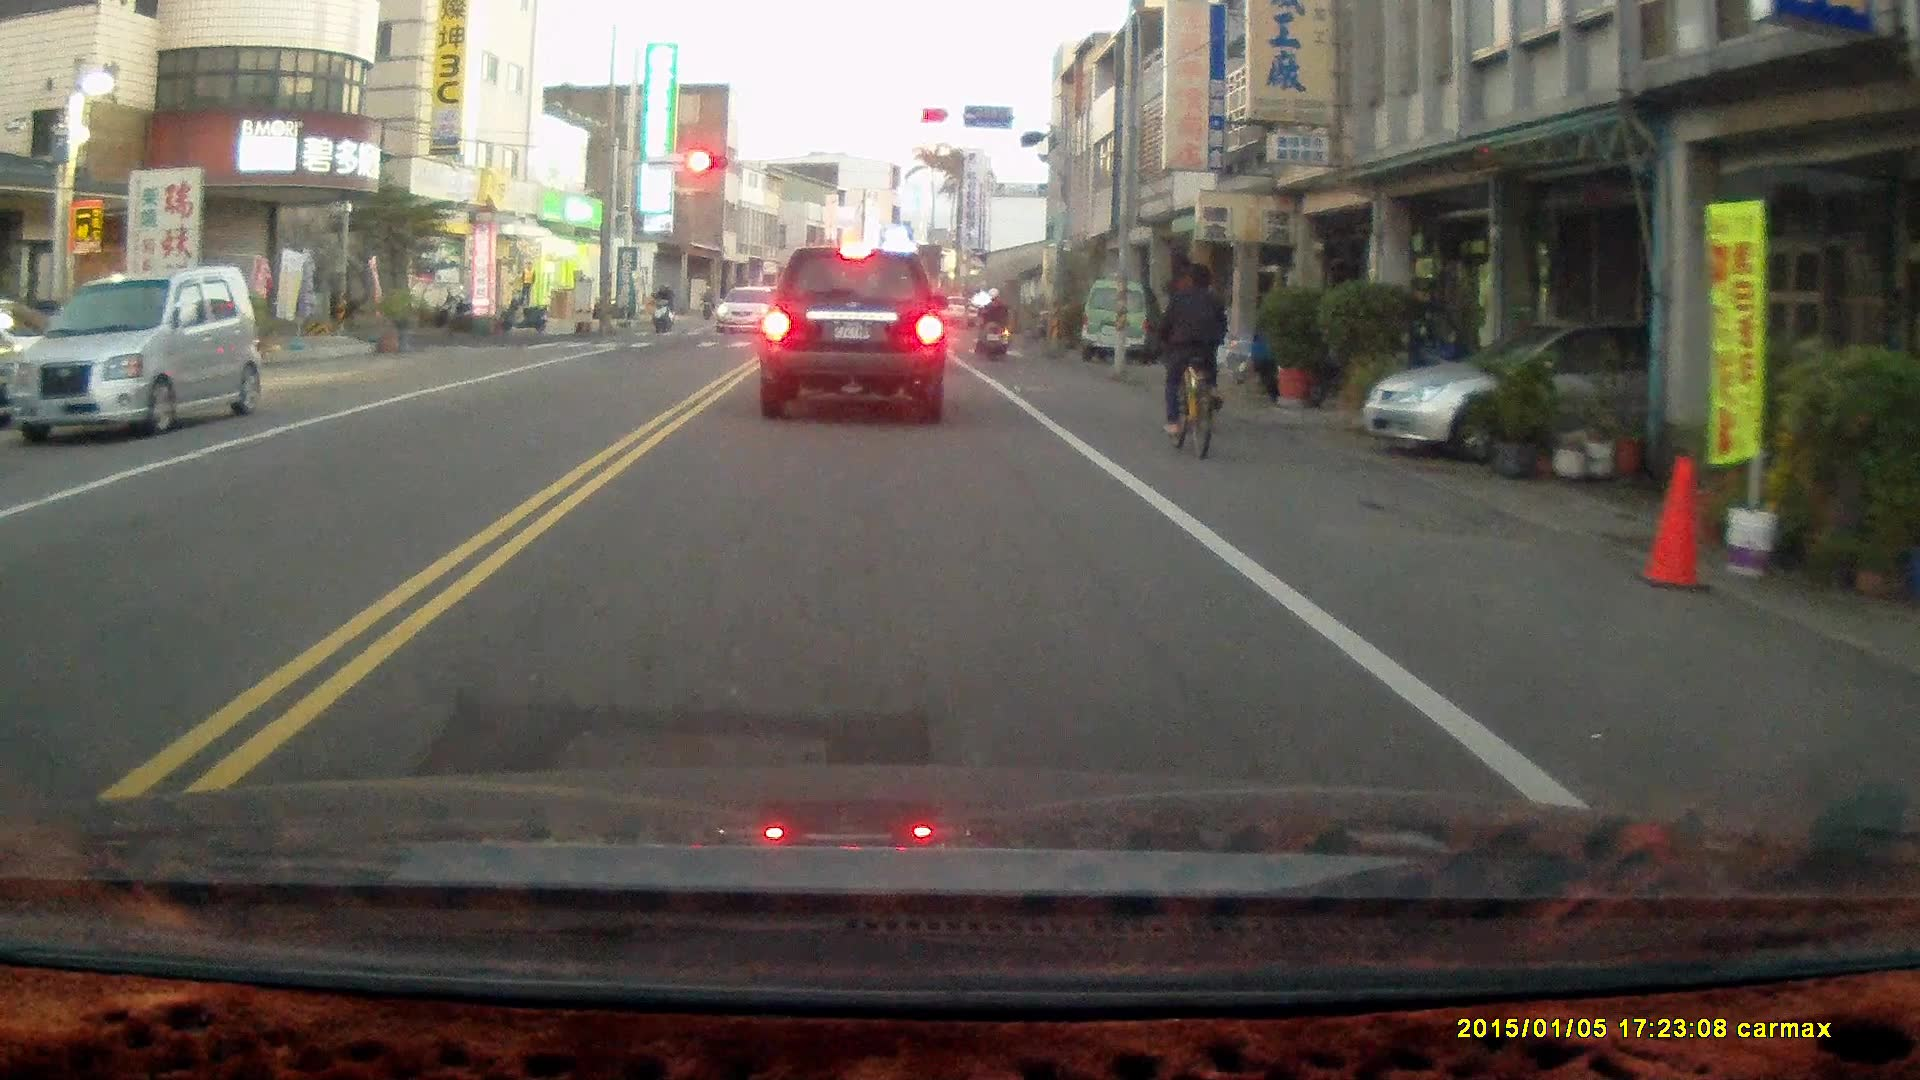pedestrian: (517, 260, 537, 309)
rider: (1159, 263, 1229, 460), (972, 283, 1013, 359), (648, 281, 675, 333)
vehicle: (1364, 321, 1783, 468), (15, 267, 270, 452), (757, 245, 952, 426), (1082, 285, 1164, 363)
